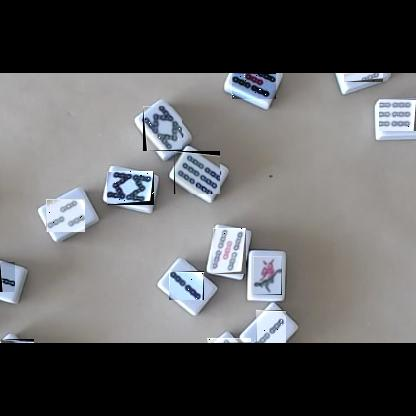1s: (253, 256, 282, 295)
2s: (169, 271, 204, 300), (256, 310, 286, 343)
3s: (46, 199, 85, 232), (0, 262, 15, 292), (343, 73, 383, 82)
4s: (0, 339, 34, 343)
5s: (213, 228, 246, 274), (231, 73, 276, 99)
6s: (174, 151, 220, 194), (379, 99, 416, 131)
8s: (143, 106, 182, 151), (107, 171, 154, 205), (207, 338, 251, 343)
